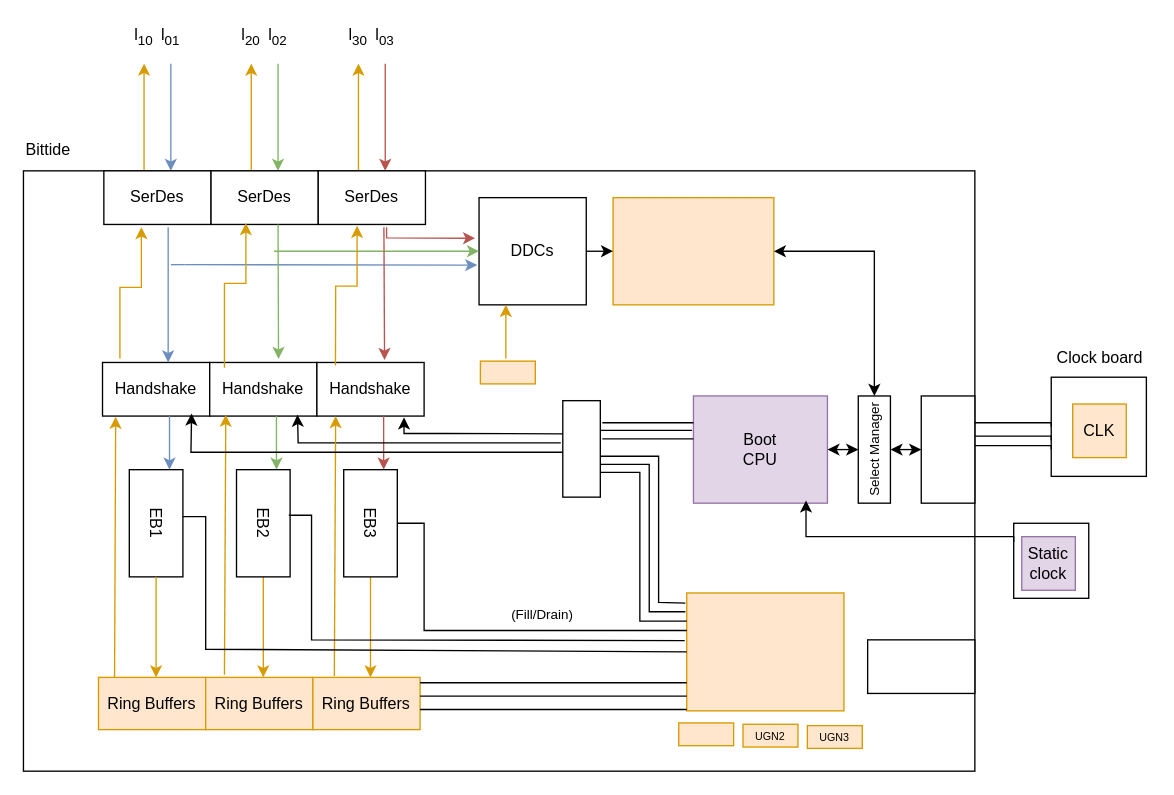
Some shapes in this 1174 by 795 pixel diagram are drawn without their labels. Each missing label, with the box of its shape:
Bus Mux: (561, 399, 600, 497)
Clock Control CPU: (612, 196, 774, 305)
JTAG (to all CPUs): (866, 639, 975, 693)
Local Counter: (479, 360, 535, 384)
Management Unit CPU: (685, 592, 844, 711)
SPI: (920, 395, 975, 503)
UGN1: (677, 722, 734, 746)
